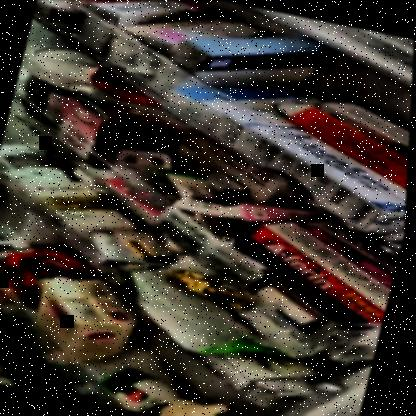eggs: (32, 270, 147, 357)
